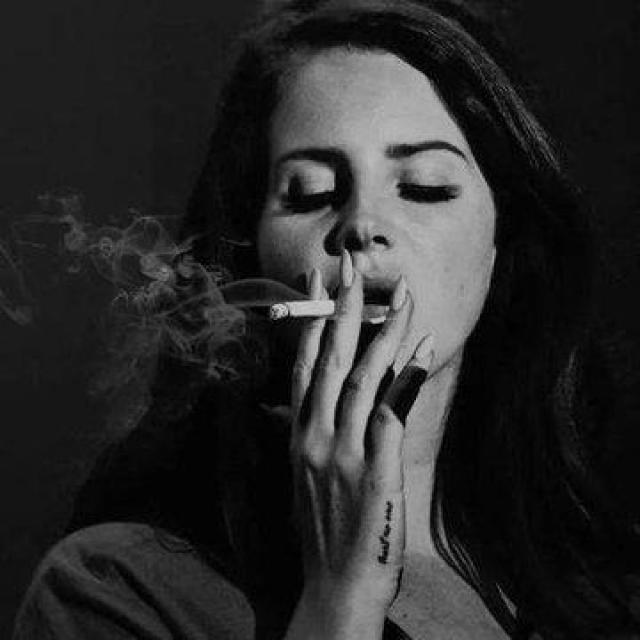rokok: (260, 292, 396, 328)
